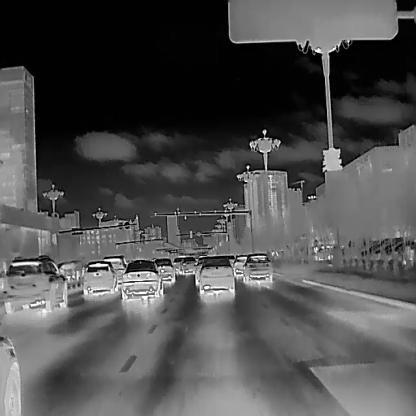car: (3, 255, 68, 314), (121, 260, 163, 300), (196, 257, 234, 294), (81, 260, 118, 296), (239, 251, 272, 284), (103, 254, 127, 283), (154, 256, 176, 284), (194, 253, 209, 287), (230, 253, 249, 277), (178, 255, 195, 273), (171, 256, 185, 274)
